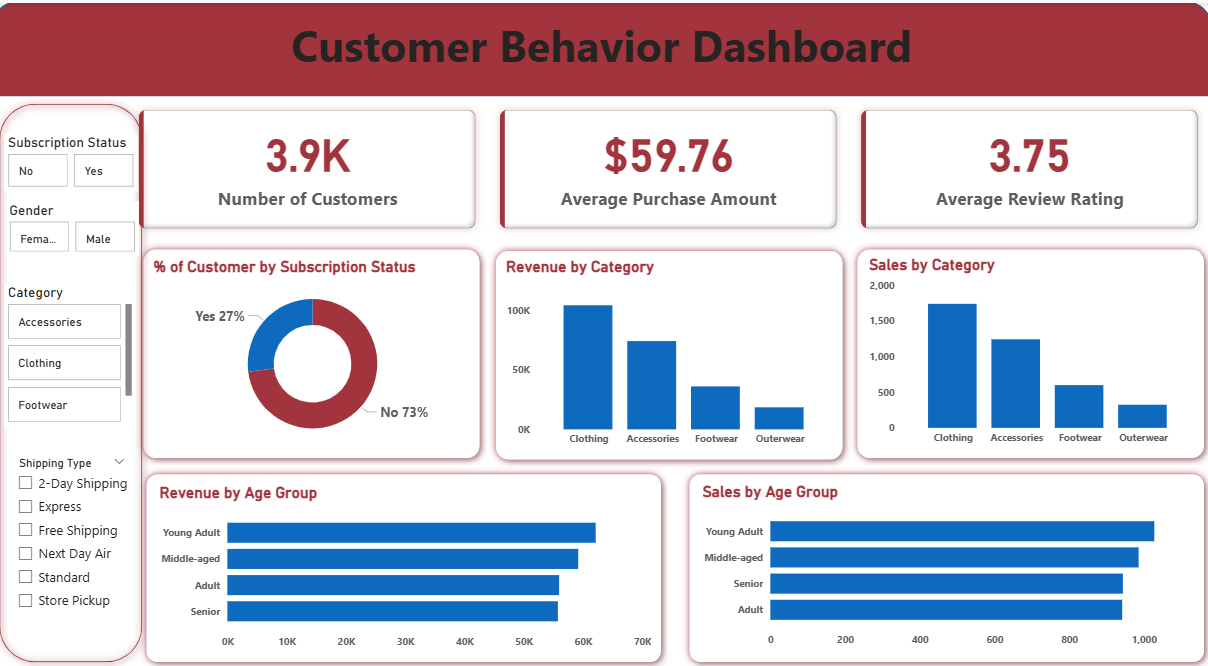

This screenshot's page, from the dashboard's own definition file:
{"tool":"powerbi","page":{"name":"Page 1","canvas":[1500,820],"ordinal":0},"visuals":[{"type":"cardVisual","fields":{"Data":["public customer.Number of Customers","public customer.Average Purchase Amount","public customer.Average Review Rating"]},"box":[164.1,116.2,1335.1,178.9],"z":0},{"type":"shape","box":[0,0,1499.3,116.2],"z":1000},{"type":"textbox","box":[0,11.1,1499.3,107],"z":2000},{"type":"shape","box":[177,295.1,431.5,274.8],"z":3000},{"type":"donutChart","title":"% of Customer by Subscription Status","fields":{"Category":["public customer.subscription_status"],"Y":["CountNonNull(public customer.customer_id)"]},"box":[193.6,313.5,400.2,239.7],"z":4000},{"type":"shape","box":[609.5,296.9,444.4,274.8],"z":5000},{"type":"shape","box":[1054.8,295.1,444.4,274.8],"z":6000},{"type":"clusteredColumnChart","title":"Revenue by Category","fields":{"Y":["Sum(public customer.purchase_amount)"],"Category":["public customer.category"]},"box":[627,313.5,409.4,241.6],"z":7000},{"type":"clusteredColumnChart","title":"Sales by Category","fields":{"Y":["CountNonNull(public customer.customer_id)"],"Category":["public customer.category"]},"box":[1073.3,311.7,409.4,241.6],"z":8000},{"type":"shape","box":[0,116.2,193.6,704.5],"z":9000},{"type":"advancedSlicerVisual","fields":{"Values":["public customer.subscription_status"]},"box":[14.8,162.3,164.1,70.1],"z":10000},{"type":"advancedSlicerVisual","fields":{"Values":["public customer.gender"]},"box":[16.6,245.3,164.1,66.4],"z":11000},{"type":"advancedSlicerVisual","fields":{"Values":["public customer.category"]},"box":[14.8,346.7,162.3,175.2],"z":12000},{"type":"slicer","fields":{"Values":["public customer.shipping_type"]},"box":[20.3,553.2,154.9,232.4],"z":13000},{"type":"shape","box":[180.7,571.7,651,249],"z":14000},{"type":"clusteredBarChart","title":"Revenue by Age Group","fields":{"Y":["Sum(public customer.purchase_amount)"],"Category":["public customer.age_group"]},"box":[201,592,614.1,212.1],"z":15000},{"type":"shape","box":[848.3,571.7,651,249],"z":15001},{"type":"clusteredBarChart","title":"Sales by Age Group","fields":{"Y":["CountNonNull(public customer.customer_id)"],"Category":["public customer.age_group"]},"box":[868.6,590.1,614.1,212.1],"z":15002}]}

Visuals, with their boxes in screenshot pixels (x1, y1, x2, y2), scaled from the page's 1500x820 canvas onto the 1208x666 screenshot:
cardVisual - public customer.Number of Customers x public customer.Average Purchase Amount: left=132, top=94, right=1207, bottom=240
shape: left=0, top=0, right=1207, bottom=94
textbox: left=0, top=9, right=1207, bottom=96
shape: left=143, top=240, right=490, bottom=463
"% of Customer by Subscription Status" donutChart: left=156, top=255, right=478, bottom=449
shape: left=491, top=241, right=849, bottom=464
shape: left=849, top=240, right=1207, bottom=463
"Revenue by Category" clusteredColumnChart: left=505, top=255, right=835, bottom=451
"Sales by Category" clusteredColumnChart: left=864, top=253, right=1194, bottom=449
shape: left=0, top=94, right=156, bottom=665
advancedSlicerVisual - public customer.subscription_status: left=12, top=132, right=144, bottom=189
advancedSlicerVisual - public customer.gender: left=13, top=199, right=146, bottom=253
advancedSlicerVisual - public customer.category: left=12, top=282, right=143, bottom=424
slicer - public customer.shipping_type: left=16, top=449, right=141, bottom=638
shape: left=146, top=464, right=670, bottom=665
"Revenue by Age Group" clusteredBarChart: left=162, top=481, right=656, bottom=653
shape: left=683, top=464, right=1207, bottom=665
"Sales by Age Group" clusteredBarChart: left=700, top=479, right=1194, bottom=652
